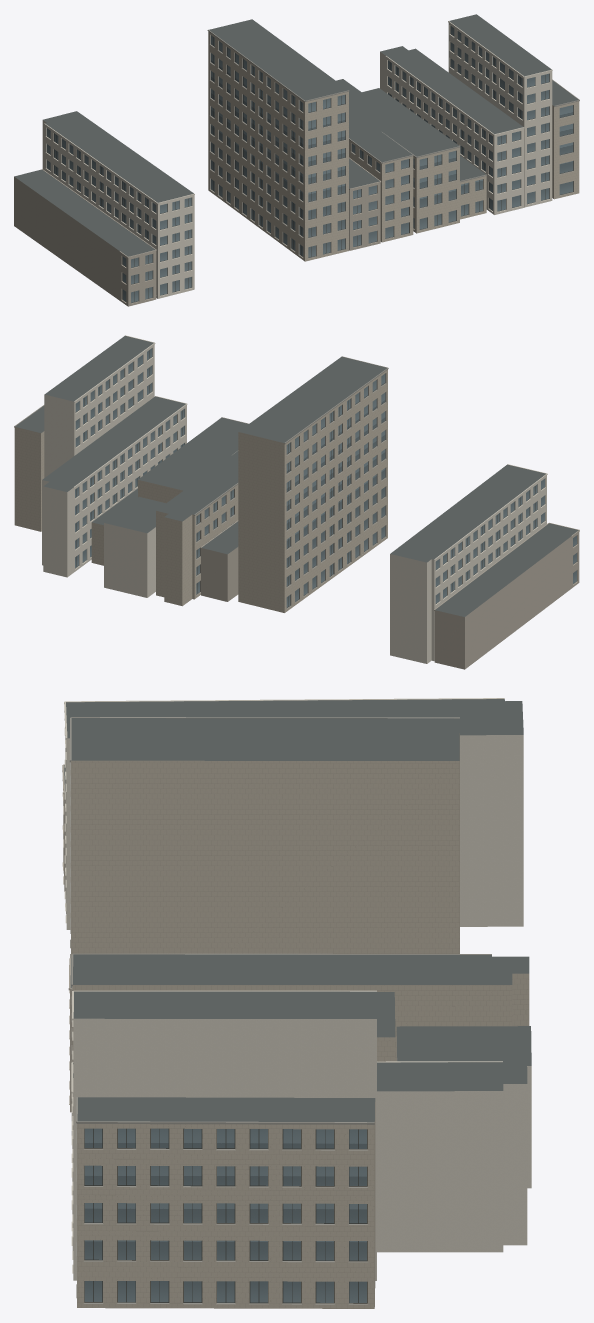
File: near.gltf
3 renders of one model, top to bottom at view 1: azimuth 30°, elevation 25°; view 2: azimuth 150°, elevation 25°; view 3: azimuth 270°, elevation 25°, orthographic. The views are drawn at different scales.
Parts seen in each view (by area): view 1: cell-e005-n000_near_stone, cell-e005-n000_near_roof, cell-e005-n000_near_glass, cell-e005-n000_near_plaster, cell-e005-n000_near_tile-wall, cell-e005-n000_near_granite, cell-e005-n000_near_frame; view 2: cell-e005-n000_near_stone, cell-e005-n000_near_roof, cell-e005-n000_near_plaster, cell-e005-n000_near_glass, cell-e005-n000_near_tile-wall, cell-e005-n000_near_granite, cell-e005-n000_near_frame; view 3: cell-e005-n000_near_stone, cell-e005-n000_near_plaster, cell-e005-n000_near_roof, cell-e005-n000_near_glass, cell-e005-n000_near_granite, cell-e005-n000_near_frame.
Boxes of the visible parts, x1,y1,x2,y2 form: cell-e005-n000_near_stone: (208, 31, 579, 261); cell-e005-n000_near_roof: (14, 14, 578, 256); cell-e005-n000_near_glass: (46, 26, 573, 302); cell-e005-n000_near_plaster: (42, 21, 552, 298); cell-e005-n000_near_tile-wall: (14, 157, 381, 306); cell-e005-n000_near_granite: (207, 30, 579, 258); cell-e005-n000_near_frame: (47, 26, 573, 303); cell-e005-n000_near_stone: (14, 370, 387, 612); cell-e005-n000_near_roof: (15, 336, 578, 616); cell-e005-n000_near_plaster: (42, 335, 547, 663); cell-e005-n000_near_glass: (75, 348, 576, 607); cell-e005-n000_near_tile-wall: (200, 520, 579, 669); cell-e005-n000_near_granite: (14, 356, 388, 609); cell-e005-n000_near_frame: (75, 350, 576, 607); cell-e005-n000_near_stone: (71, 733, 529, 1308); cell-e005-n000_near_plaster: (64, 698, 531, 1280); cell-e005-n000_near_roof: (64, 699, 531, 1122); cell-e005-n000_near_glass: (84, 1128, 366, 1302); cell-e005-n000_near_granite: (69, 717, 491, 1304); cell-e005-n000_near_frame: (84, 1128, 367, 1303).
Size of the model in its own units: 93.54 by 31.27 by 41.41.
7 materials, 5 textured.
